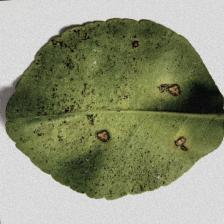canker: (51, 37, 194, 163)
